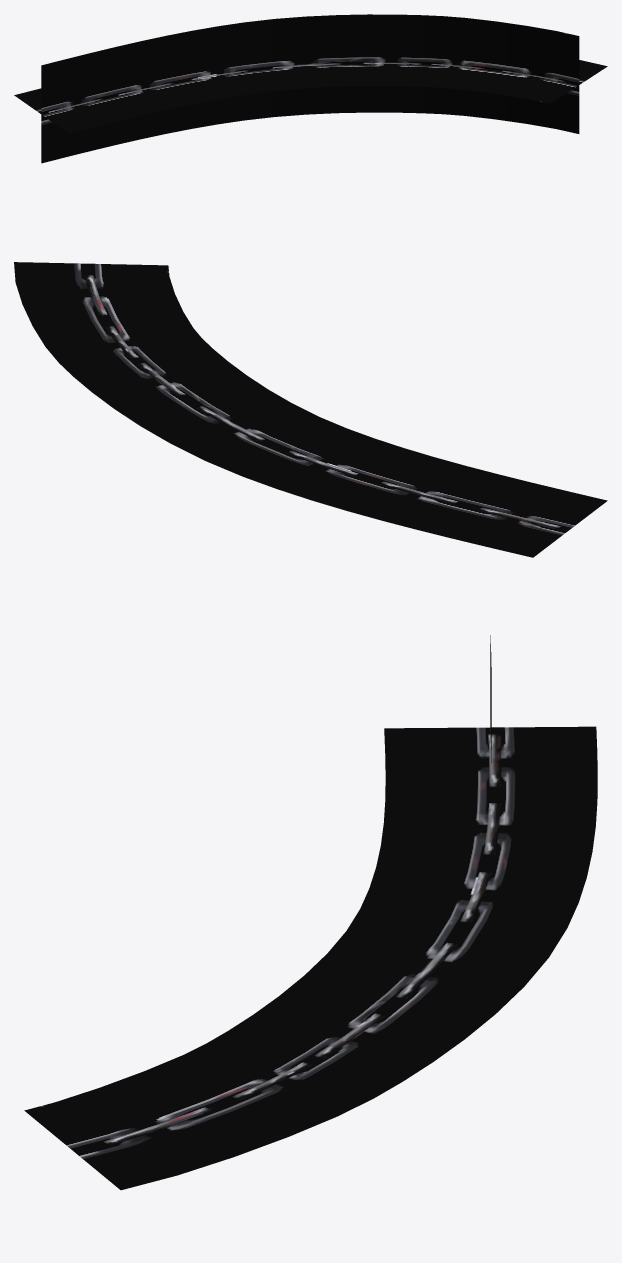
File: suolian.FBX
The picture shows the model from 3 angles, top to bottom: view 1: azimuth 30°, elevation 25°; view 2: azimuth 150°, elevation 25°; view 3: azimuth 270°, elevation 25°; orthographic projection. The views are drawn at different scales.
Visible parts, largest first — view 1: Plane003; view 2: Plane003; view 3: Plane003.
Boxes of the visible parts, x1,y1,x2,y2 form: Plane003: (14, 14, 607, 163); Plane003: (14, 262, 607, 557); Plane003: (24, 635, 597, 1190).
Bounding box in the file's own units: 44.39 × 8.76 × 23.21.
